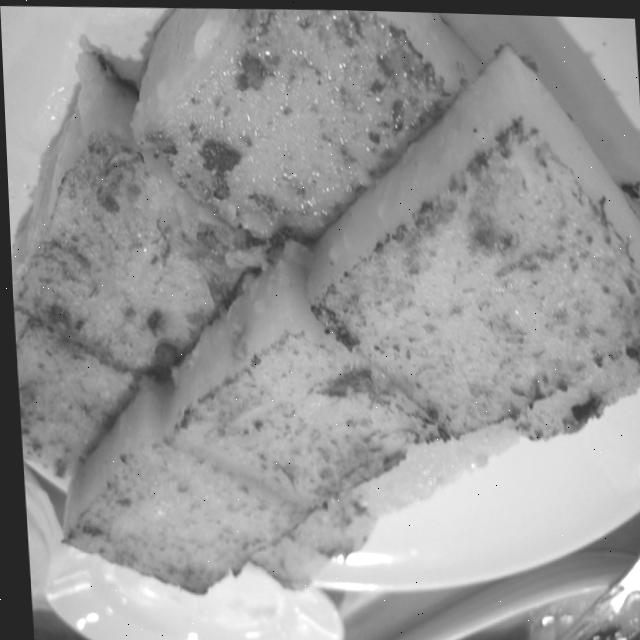蛋糕甜品: (21, 16, 639, 574)
